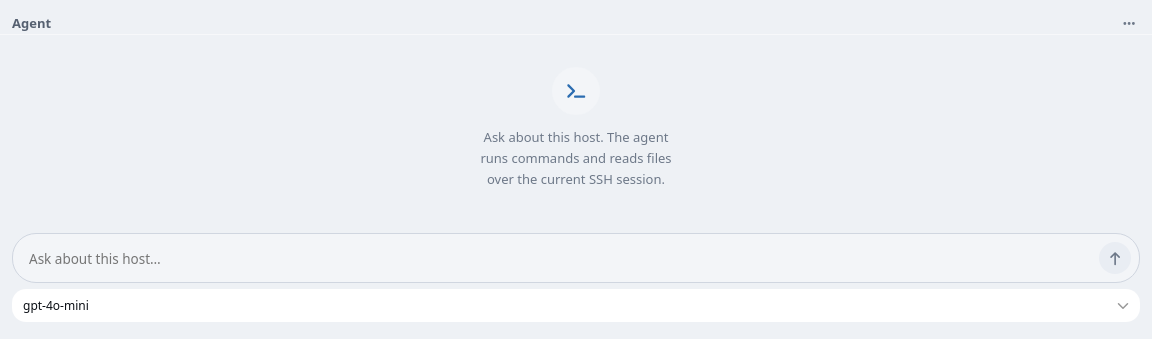
AgentPanel prompting › keeps the user message as typed text, not markdown
The width and height of the screenshot is (1152, 339).
Type "use **bold** please" into the text box named "Agent" at (560, 260), box [29,245,1091,274]
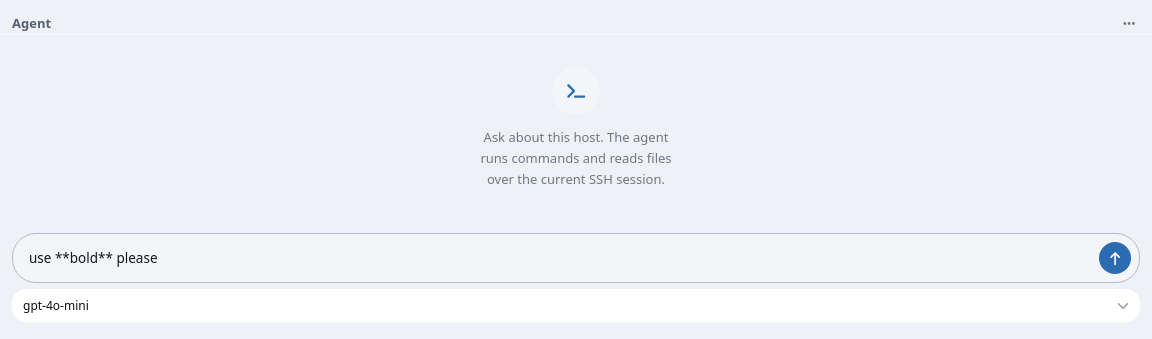
Click the button named "Send" at (1115, 258), box [1099,242,1131,274]
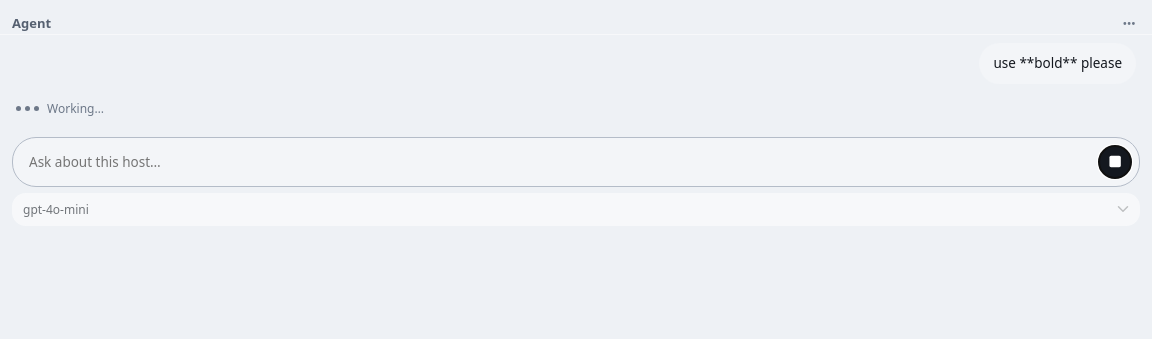
expect the text "use **bold** please" is shown: met, box [980,43,1136,84]
